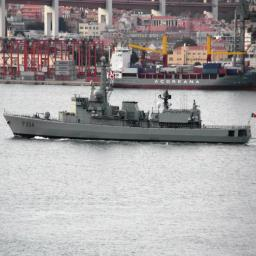Fragata: (3, 53, 252, 147)
